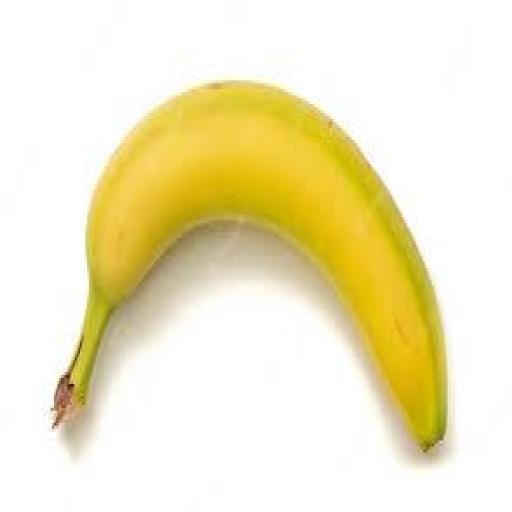banana: (54, 84, 445, 449)
